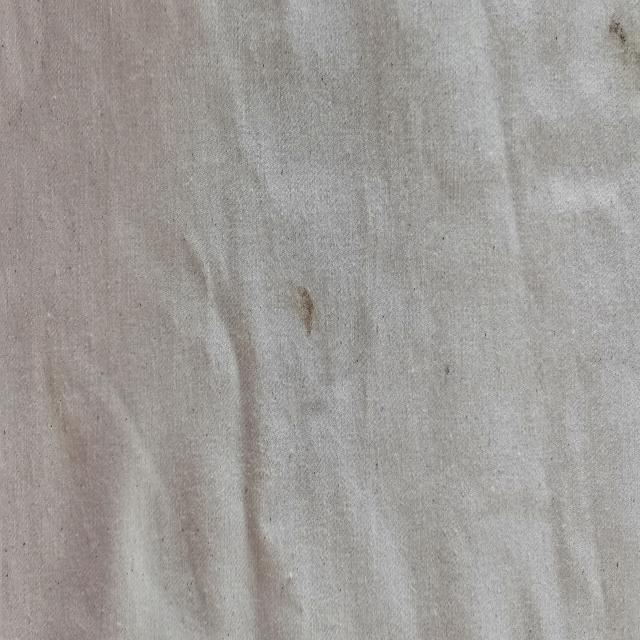taaaches: (600, 8, 638, 84), (296, 263, 326, 354)
